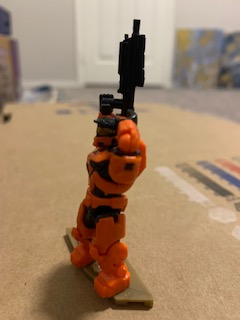chief: (63, 92, 147, 298)
rifle: (98, 17, 147, 123)
